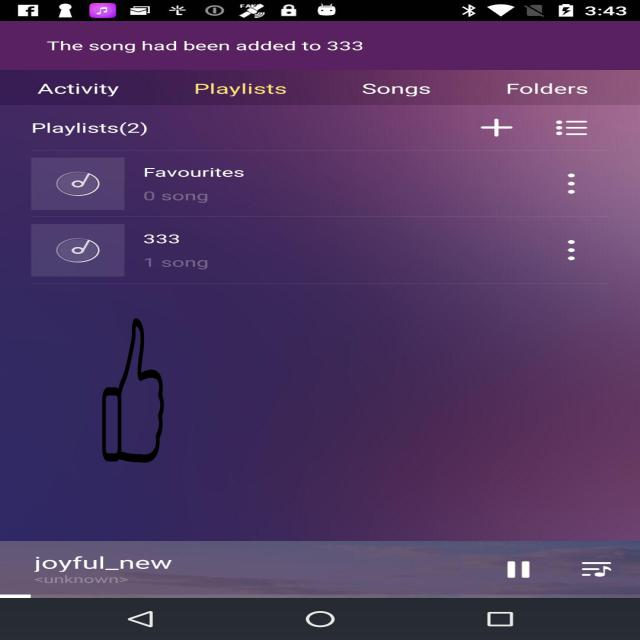privacy zuckering: (101, 318, 165, 463)
